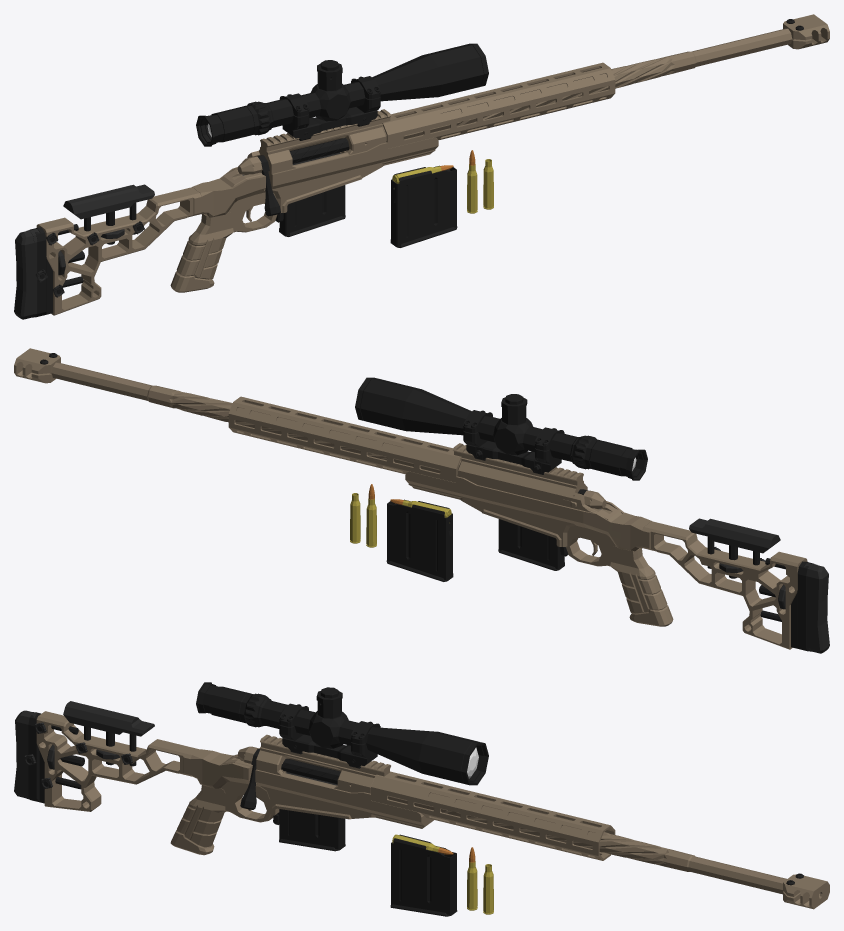
Rendered from low-poly_c14_timberwolf.glb.
3 views of the same model, one above another, from view 1: azimuth 30°, elevation 25°; view 2: azimuth 150°, elevation 25°; view 3: azimuth 330°, elevation 25° (orthographic).
Visible parts, largest first — view 1: c14 chassi_6, c14 stock_11, sb 5-25x56 scope_13, c14 5rnd mag_3, c14 barrel_4, c14 receiver_10, c14 grip_7, c14 5rnd empty mag_2, c14 bolt_5, c14 muzzle brake_9, 338lm_0; view 2: c14 chassi_6, c14 stock_11, sb 5-25x56 scope_13, c14 5rnd mag_3, c14 receiver_10, c14 barrel_4, c14 grip_7, c14 5rnd empty mag_2, c14 muzzle brake_9, 338lm_0; view 3: c14 chassi_6, sb 5-25x56 scope_13, c14 stock_11, c14 5rnd mag_3, c14 barrel_4, c14 receiver_10, c14 grip_7, c14 5rnd empty mag_2, c14 bolt_5, c14 muzzle brake_9, 338lm_0, 338lm case_1.
Part boxes in pixels (x1,y1,x2,y2): c14 chassi_6: [192, 62, 615, 232]; c14 stock_11: [14, 184, 201, 319]; sb 5-25x56 scope_13: [196, 43, 488, 146]; c14 5rnd mag_3: [390, 165, 457, 247]; c14 barrel_4: [382, 28, 793, 141]; c14 receiver_10: [221, 109, 390, 187]; c14 grip_7: [170, 212, 233, 292]; c14 5rnd empty mag_2: [279, 152, 345, 236]; c14 bolt_5: [237, 138, 349, 216]; c14 muzzle brake_9: [783, 14, 829, 49]; 338lm_0: [467, 150, 477, 213]; c14 chassi_6: [228, 396, 651, 566]; c14 stock_11: [642, 518, 829, 653]; sb 5-25x56 scope_13: [355, 377, 647, 480]; c14 5rnd mag_3: [386, 499, 453, 581]; c14 receiver_10: [453, 443, 621, 521]; c14 barrel_4: [50, 362, 461, 475]; c14 grip_7: [610, 546, 673, 626]; c14 5rnd empty mag_2: [498, 519, 564, 570]; c14 muzzle brake_9: [14, 348, 60, 383]; 338lm_0: [366, 484, 376, 547]; c14 chassi_6: [190, 749, 615, 860]; sb 5-25x56 scope_13: [196, 682, 488, 785]; c14 stock_11: [14, 701, 199, 811]; c14 5rnd mag_3: [390, 834, 457, 916]; c14 barrel_4: [388, 795, 786, 894]; c14 receiver_10: [223, 734, 390, 793]; c14 grip_7: [170, 785, 226, 855]; c14 5rnd empty mag_2: [279, 772, 345, 851]; c14 bolt_5: [237, 746, 340, 809]; c14 muzzle brake_9: [783, 873, 829, 909]; 338lm_0: [467, 847, 477, 910]; 338lm case_1: [483, 864, 493, 914].
Bounding box in the file's own units: 12.34 × 2.9 × 0.7481.
